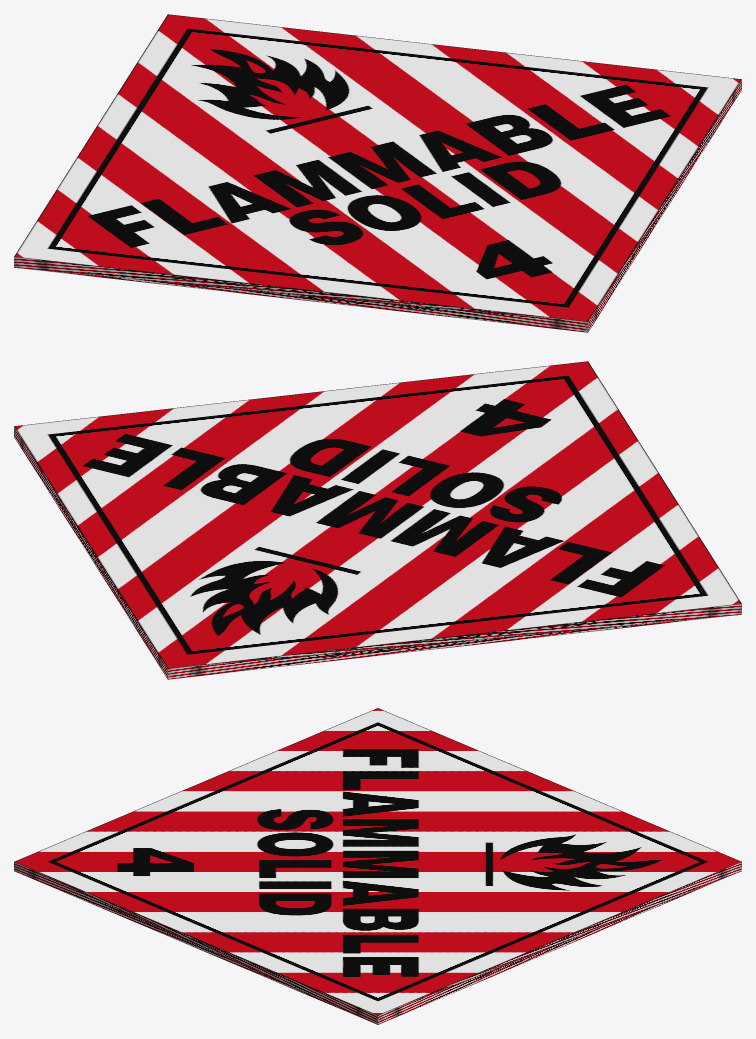
The model's file is hazmat_flammable-solid.dae.
3 renders of one model, top to bottom at view 1: azimuth 30°, elevation 25°; view 2: azimuth 150°, elevation 25°; view 3: azimuth 270°, elevation 25°, orthographic. The views are drawn at different scales.
Visible parts, largest first — view 1: Sign_Material.013; view 2: Sign_Material.013; view 3: Sign_Material.013.
Part boxes in pixels (x1=…): Sign_Material.013: x1=14, y1=14, x2=741, y2=332; Sign_Material.013: x1=14, y1=361, x2=741, y2=679; Sign_Material.013: x1=14, y1=708, x2=741, y2=1024.
Bounding box in the file's own units: 0.1414 × 0.1414 × 0.002.
1 material, 1 textured.
